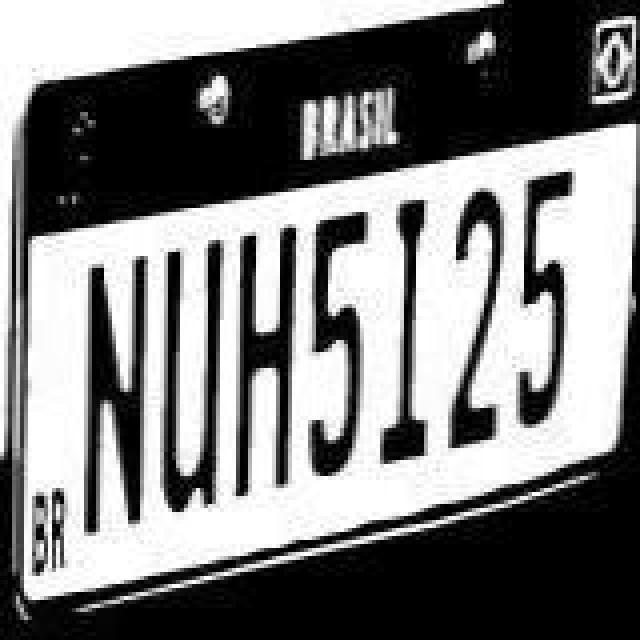2: (438, 174, 514, 458)
5: (304, 198, 376, 482), (514, 162, 582, 430)
H: (230, 216, 306, 504)
I: (374, 184, 442, 472)
N: (82, 250, 158, 558)
U: (154, 230, 230, 530)
